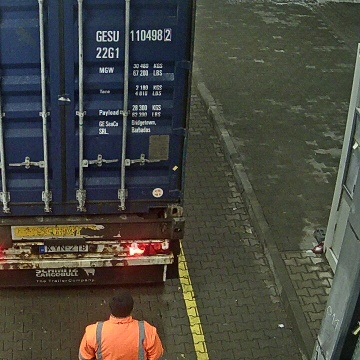serial_id: (96, 29, 169, 41)
